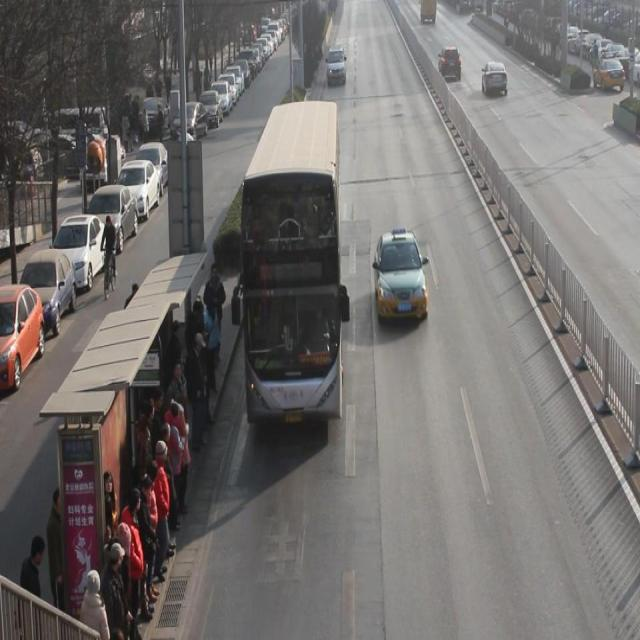car: (376, 234, 430, 323), (482, 62, 508, 97), (440, 46, 463, 82)
truck: (328, 45, 348, 89)
van: (241, 101, 342, 417)
